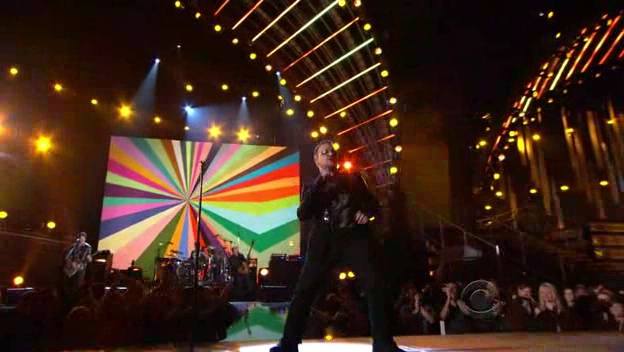person: (298, 141, 363, 260), (295, 141, 360, 260), (301, 141, 366, 260), (298, 138, 363, 257), (298, 144, 363, 263)
target_negative: (377, 15, 536, 192), (386, 51, 506, 206), (58, 132, 429, 180), (53, 228, 146, 278), (377, 282, 397, 322), (604, 155, 605, 256)
